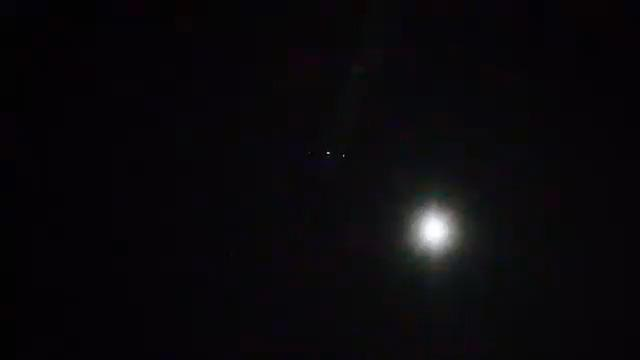Plane: (303, 145, 351, 164)
